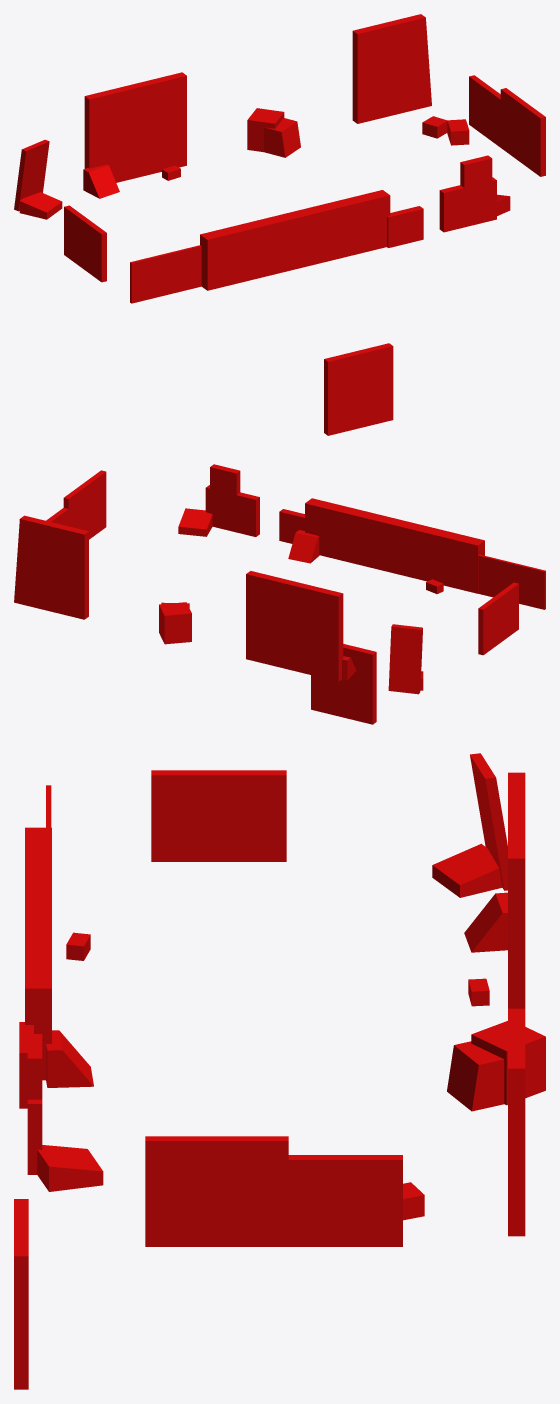
File: SM_Bld_Shop_Medium_02_Barricades_01_Collision.fbx
3 views of the same model, one above another, from view 1: azimuth 30°, elevation 25°; view 2: azimuth 150°, elevation 25°; view 3: azimuth 270°, elevation 25° (orthographic). The views are drawn at different scales.
Visible parts, largest first — view 1: SM_Bld_Shop_Medium_02_Barricades_01_Collision; view 2: SM_Bld_Shop_Medium_02_Barricades_01_Collision; view 3: SM_Bld_Shop_Medium_02_Barricades_01_Collision.
Boxes of the visible parts, x1,y1,x2,y2 form: SM_Bld_Shop_Medium_02_Barricades_01_Collision: [14, 14, 545, 435]; SM_Bld_Shop_Medium_02_Barricades_01_Collision: [14, 464, 545, 724]; SM_Bld_Shop_Medium_02_Barricades_01_Collision: [14, 753, 545, 1389].
Bounding box in the file's own units: 1393 × 784 × 804.
